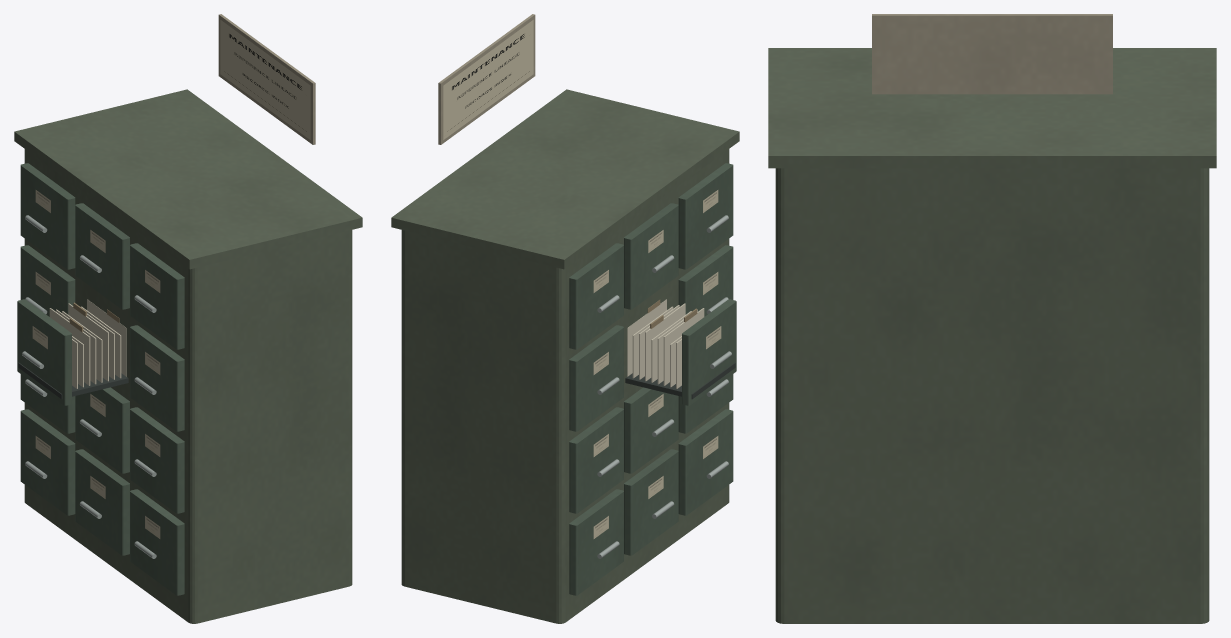
File: SM_ArchiveProps_CardIndex.glb
The picture shows the model from 3 angles, left to right: view 1: azimuth 30°, elevation 25°; view 2: azimuth 150°, elevation 25°; view 3: azimuth 270°, elevation 25°; orthographic projection. The views are drawn at different scales.
Visible parts, largest first — view 1: SM_ArchiveProps_CardIndex; view 2: SM_ArchiveProps_CardIndex; view 3: SM_ArchiveProps_CardIndex.
Part boxes in pixels (left/top/right/bottom): SM_ArchiveProps_CardIndex: left=14, top=14, right=362, bottom=623; SM_ArchiveProps_CardIndex: left=391, top=14, right=739, bottom=623; SM_ArchiveProps_CardIndex: left=768, top=14, right=1216, bottom=623.
Bounding box in the file's own units: 0.748 × 1.39 × 0.93.
8 materials, 4 textured.
